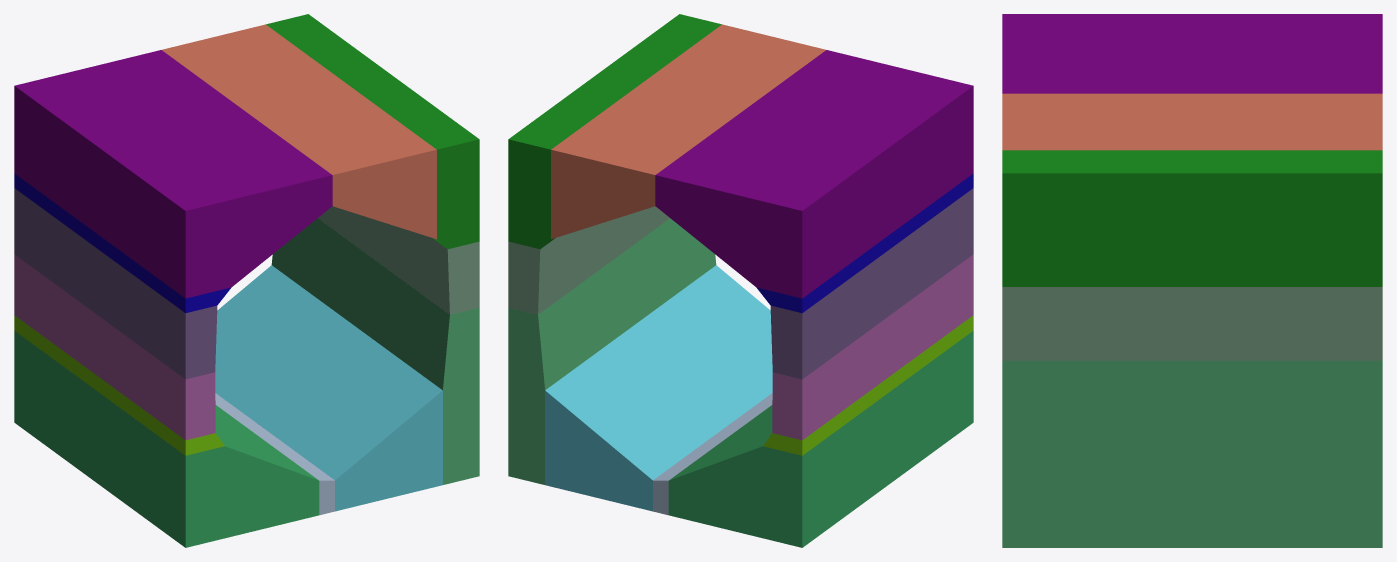
File: hole_2.obj
The picture shows the model from 3 angles, left to right: view 1: azimuth 30°, elevation 25°; view 2: azimuth 150°, elevation 25°; view 3: azimuth 270°, elevation 25°; orthographic projection. The views are drawn at different scales.
Visible parts, largest first — view 1: geometry_11, geometry_2, geometry_10, geometry_9, geometry_3, geometry_1, geometry_7, geometry_8, geometry_0, geometry_4, geometry_5, geometry_6; view 2: geometry_11, geometry_2, geometry_10, geometry_9, geometry_3, geometry_1, geometry_7, geometry_8, geometry_0, geometry_4, geometry_5, geometry_6; view 3: geometry_3, geometry_8, geometry_11, geometry_0, geometry_9.
Boxes of the visible parts, x1,y1,x2,y2 form: geometry_11: (14,50,332,298); geometry_2: (215,265,442,511); geometry_10: (14,331,319,547); geometry_9: (162,24,436,239); geometry_3: (271,218,479,484); geometry_1: (14,188,217,379); geometry_7: (14,254,215,440); geometry_8: (266,14,479,249); geometry_0: (318,206,479,314); geometry_4: (14,315,224,455); geometry_5: (14,173,231,313); geometry_6: (215,393,334,515); geometry_11: (655,50,973,298); geometry_2: (545,265,772,511); geometry_10: (668,331,973,547); geometry_9: (551,24,825,239); geometry_3: (508,218,716,484); geometry_1: (770,188,973,379); geometry_7: (772,254,973,440); geometry_8: (508,14,721,249); geometry_0: (508,206,669,314); geometry_4: (763,315,973,455); geometry_5: (756,173,973,313); geometry_6: (653,393,772,515); geometry_3: (1002,360,1382,547); geometry_8: (1002,150,1382,286); geometry_11: (1002,14,1382,93); geometry_0: (1002,287,1382,360); geometry_9: (1002,93,1382,150).
Size of the model in its own units: 0.0496 by 0.0543 by 0.05.
